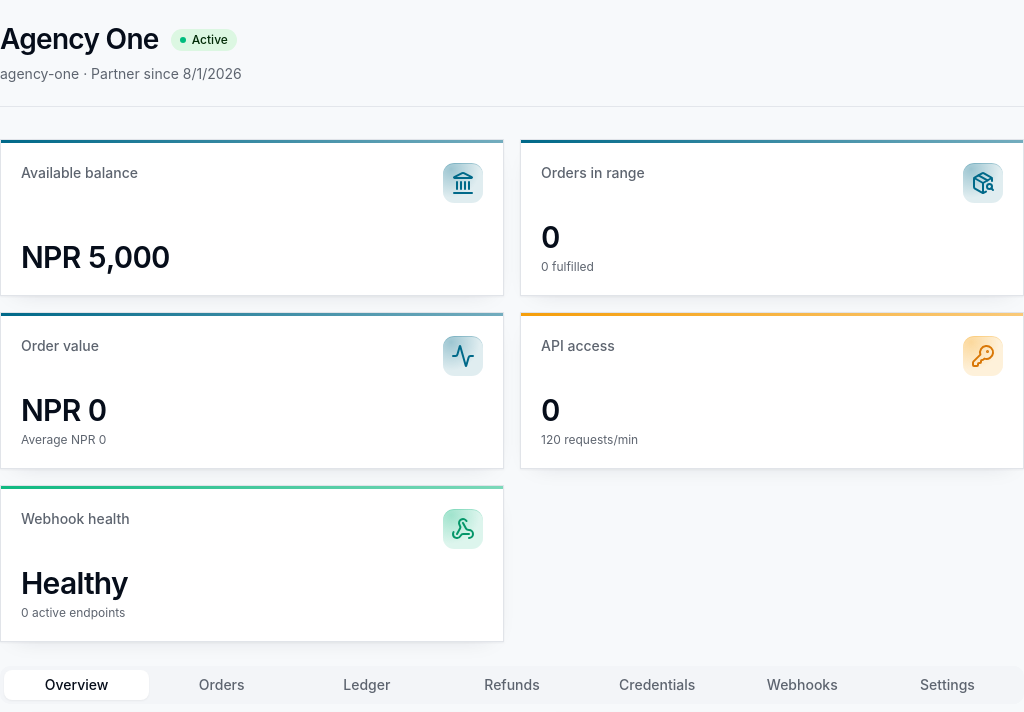
it: PartnerWorkspace › blocks balance changes until the reason and typed confirmation are provided
Expected: the heading "Agency One" is shown, [0, 21, 159, 58]
Press the mouse on the tab "ledger" at (367, 685), box [294, 670, 439, 700]
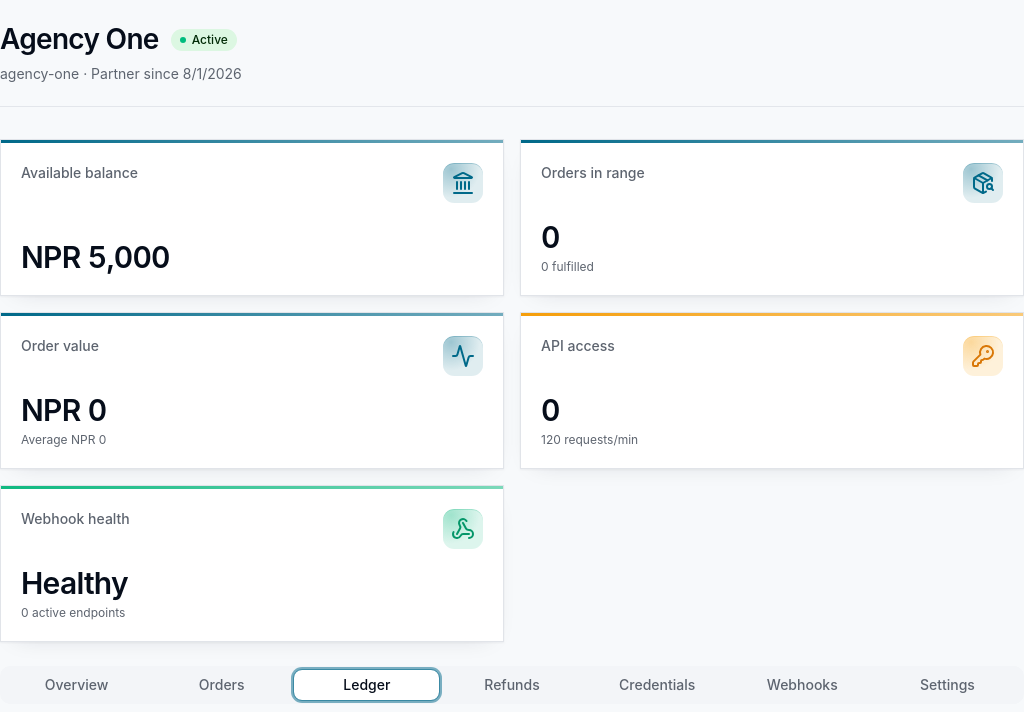
Click the tab "ledger" at (367, 685), box [294, 670, 439, 700]
(page scrolled)
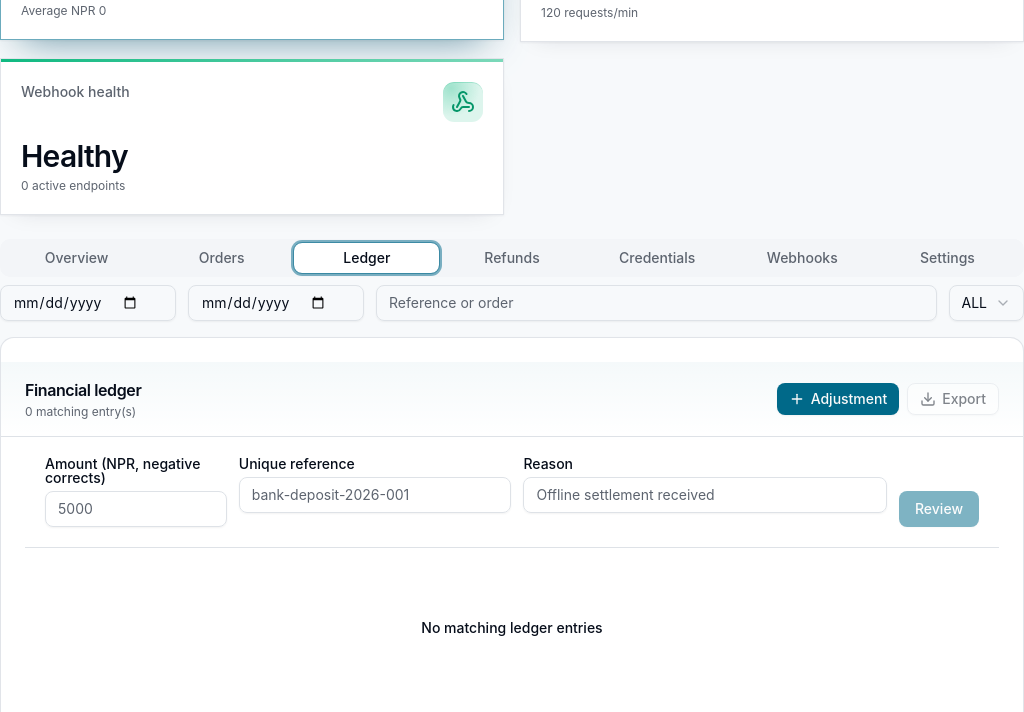
Type "100" into the number field with placeholder "5000" at (136, 509), box [45, 491, 227, 527]
Type "deposit-001" into the field with placeholder "bank-deposit-2026-001" at (375, 495), box [239, 477, 512, 513]
Type "Cash received" into the field with placeholder "Offline settlement received" at (705, 495), box [523, 477, 887, 513]
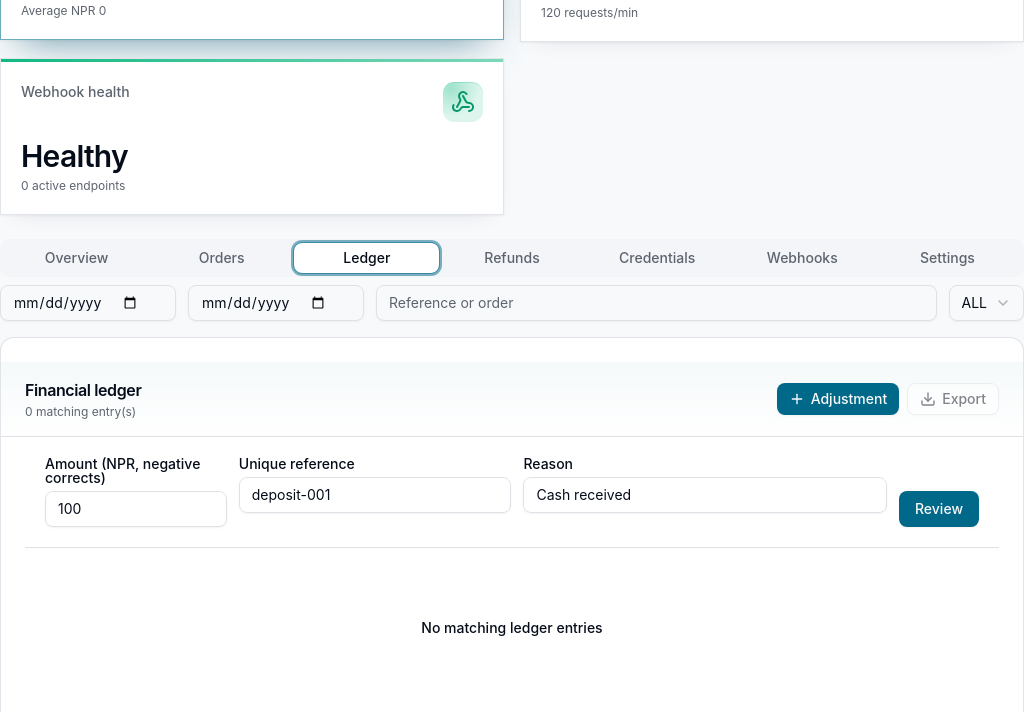
Click the button "Review" at (939, 509), box [899, 491, 979, 527]
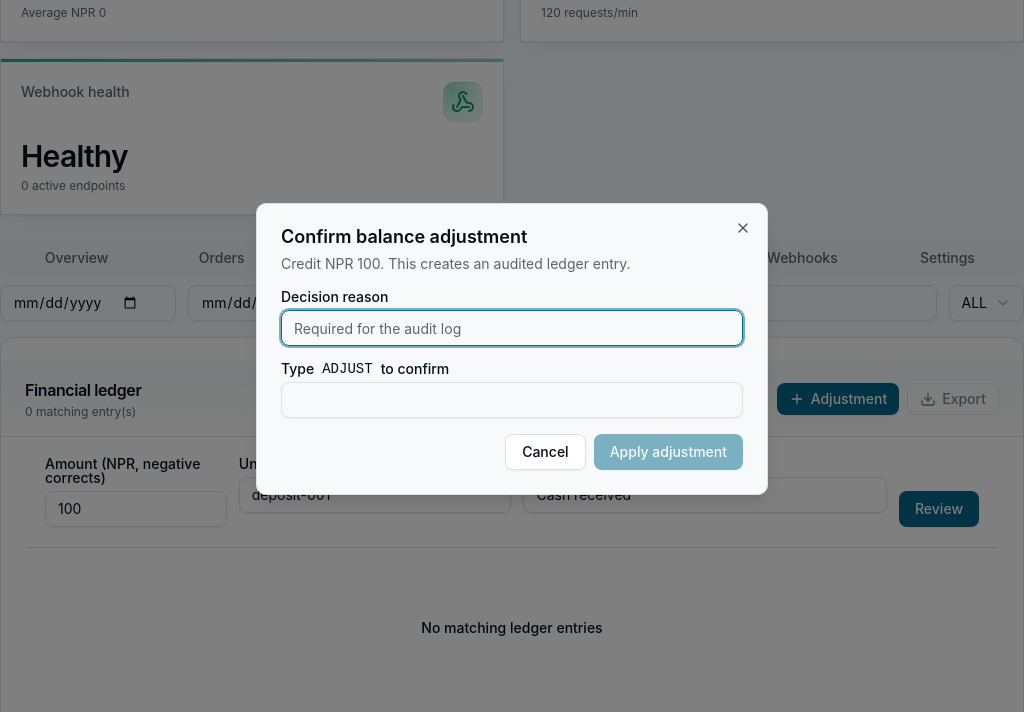
Now the button "Apply adjustment" is disabled, box [594, 434, 743, 470]
Type "Cash received" into the field with placeholder "Required for the audit log" at (512, 328), box [281, 310, 743, 346]
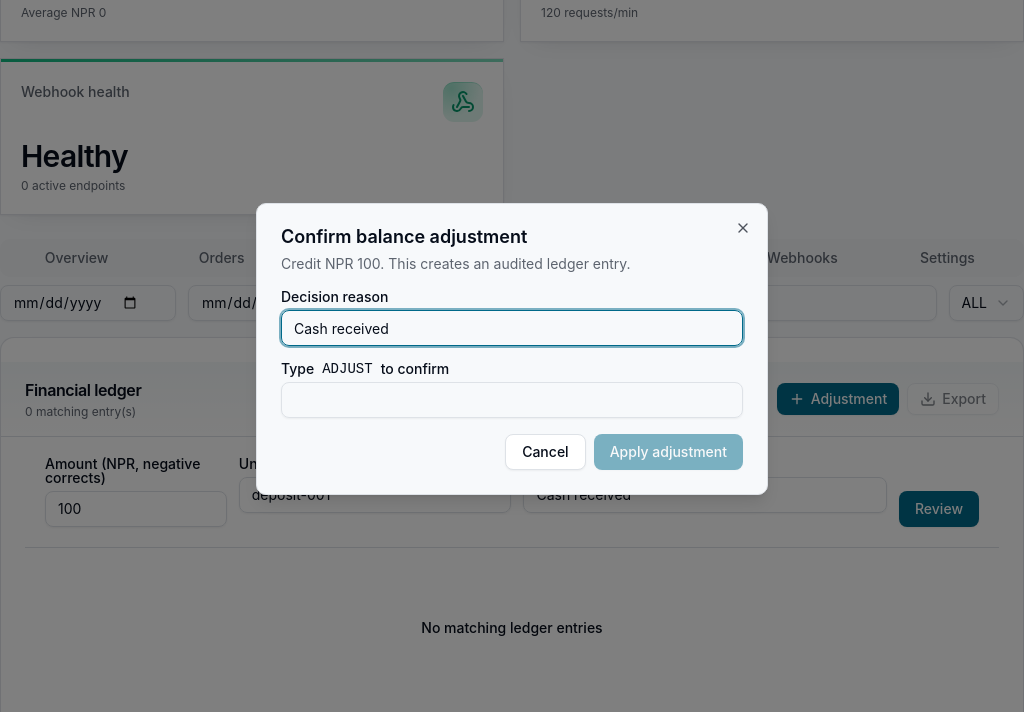
Type "ADJUST" into the field named "Type ADJUST to confirm" at (512, 400), box [281, 382, 743, 418]
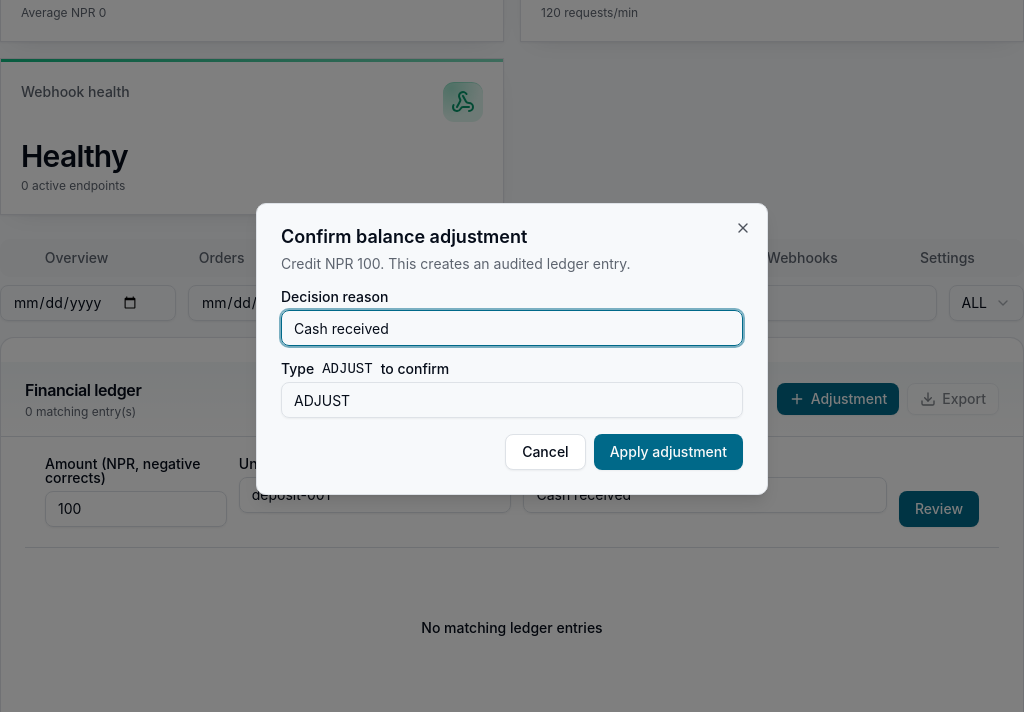
Now the button "Apply adjustment" is enabled, box [594, 434, 743, 470]
